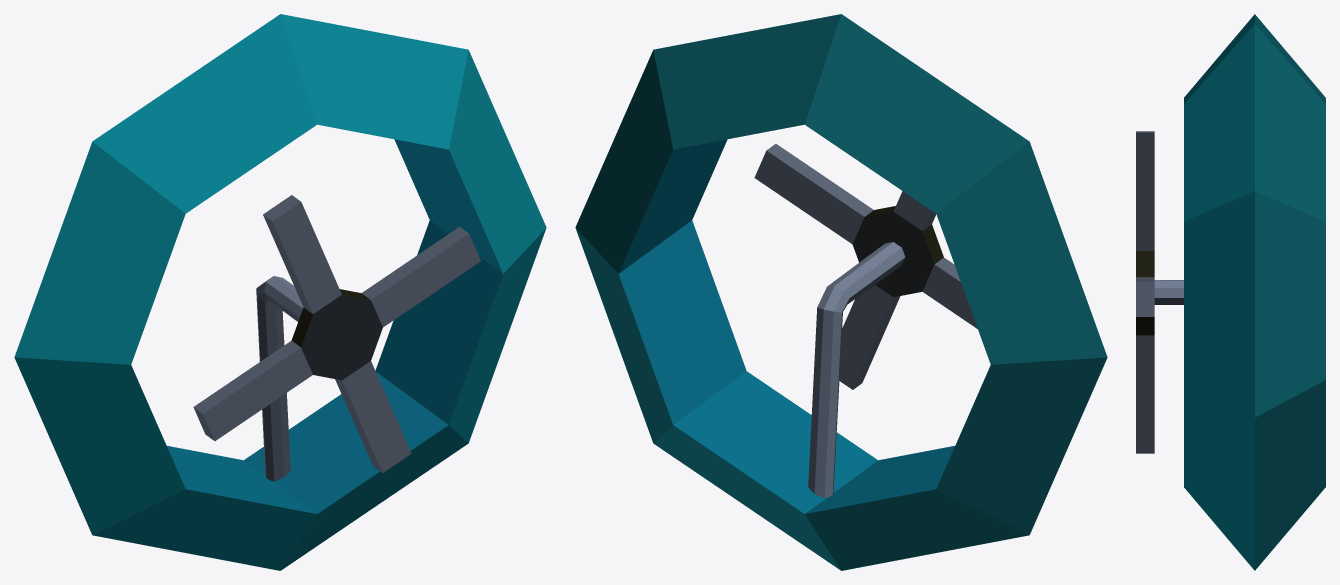
File: Ventilador Aidan.fbx
3 views of the same model, side by side, from view 1: azimuth 30°, elevation 25°; view 2: azimuth 150°, elevation 25°; view 3: azimuth 270°, elevation 25° (orthographic). The views are drawn at different scales.
Visible parts, largest first — view 1: Circle.010; view 2: Circle.010; view 3: Circle.010.
Boxes of the visible parts, x1,y1,x2,y2 form: Circle.010: [14, 14, 546, 570]; Circle.010: [575, 14, 1107, 570]; Circle.010: [1136, 14, 1325, 570].
Bounding box in the file's own units: 1078 × 1078 × 345.
Materials: 1 (1 with a texture image).
